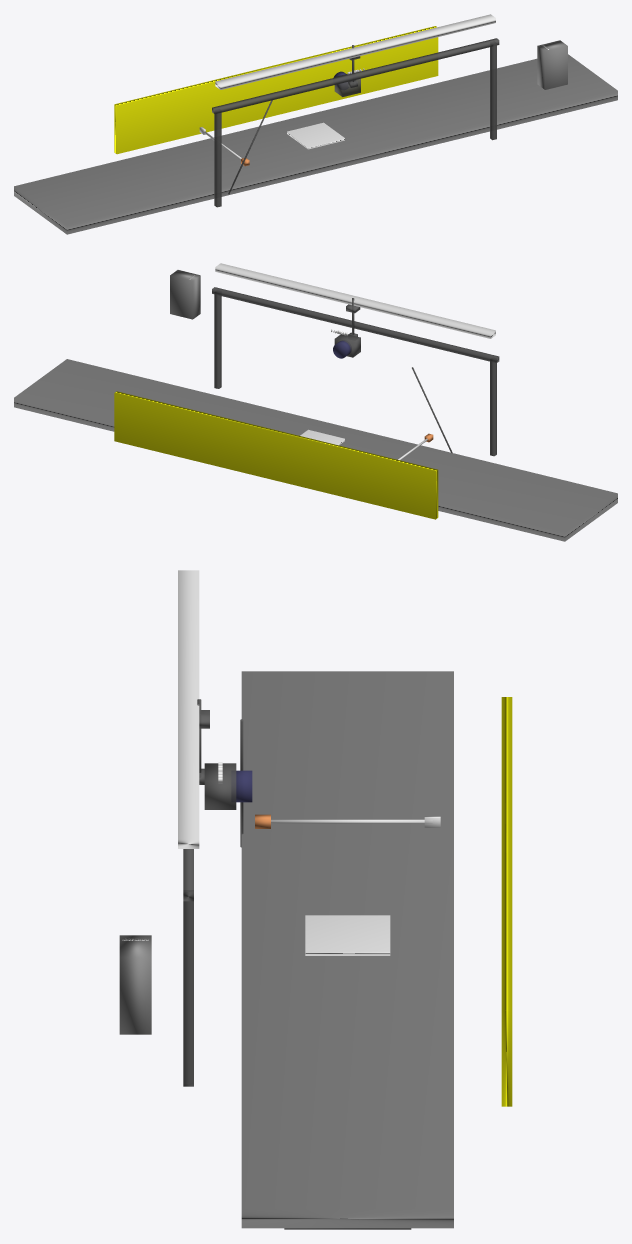
The model's file is camera.fbx.
3 views of the same model, one above another, from view 1: azimuth 30°, elevation 25°; view 2: azimuth 150°, elevation 25°; view 3: azimuth 270°, elevation 25° (orthographic). The views are drawn at different scales.
Visible parts, largest first — view 1: ConveyorBelt, Safety_Barrier, Cable_Tray, CameraRail, Control_Panel, QR_Tile, SupportColumn1, SupportColumn2, KAMERA_1_Body; view 2: ConveyorBelt, Safety_Barrier, Cable_Tray, CameraRail, Control_Panel, SupportColumn2, SupportColumn1; view 3: ConveyorBelt, Cable_Tray, Safety_Barrier, QR_Tile, Control_Panel, SupportColumn2, KAMERA_1_Body.
Part boxes in pixels (x1=…): ConveyorBelt: x1=14, y1=54, x2=617, y2=234; Safety_Barrier: x1=114, y1=26, x2=438, y2=154; Cable_Tray: x1=215, y1=14, x2=495, y2=89; CameraRail: x1=212, y1=38, x2=499, y2=114; Control_Panel: x1=537, y1=40, x2=567, y2=89; QR_Tile: x1=287, y1=122, x2=344, y2=149; SupportColumn1: x1=214, y1=109, x2=221, y2=207; SupportColumn2: x1=490, y1=42, x2=496, y2=140; KAMERA_1_Body: x1=334, y1=73, x2=360, y2=96; ConveyorBelt: x1=14, y1=359, x2=617, y2=541; Safety_Barrier: x1=114, y1=391, x2=438, y2=519; Cable_Tray: x1=215, y1=263, x2=495, y2=338; CameraRail: x1=212, y1=287, x2=499, y2=363; Control_Panel: x1=170, y1=270, x2=200, y2=319; SupportColumn2: x1=214, y1=290, x2=221, y2=388; SupportColumn1: x1=490, y1=358, x2=496, y2=456; ConveyorBelt: x1=241, y1=671, x2=453, y2=1228; Cable_Tray: x1=178, y1=570, x2=199, y2=848; Safety_Barrier: x1=501, y1=697, x2=512, y2=1106; QR_Tile: x1=305, y1=915, x2=390, y2=955; Control_Panel: x1=119, y1=935, x2=151, y2=1034; SupportColumn2: x1=183, y1=890, x2=193, y2=1086; KAMERA_1_Body: x1=204, y1=763, x2=236, y2=809.
Size of the model in its own units: 12 by 2.8 by 3.7.
